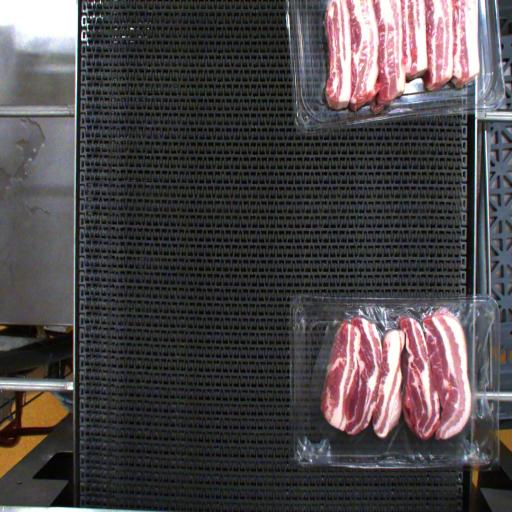unsealed: (312, 295, 494, 463)
